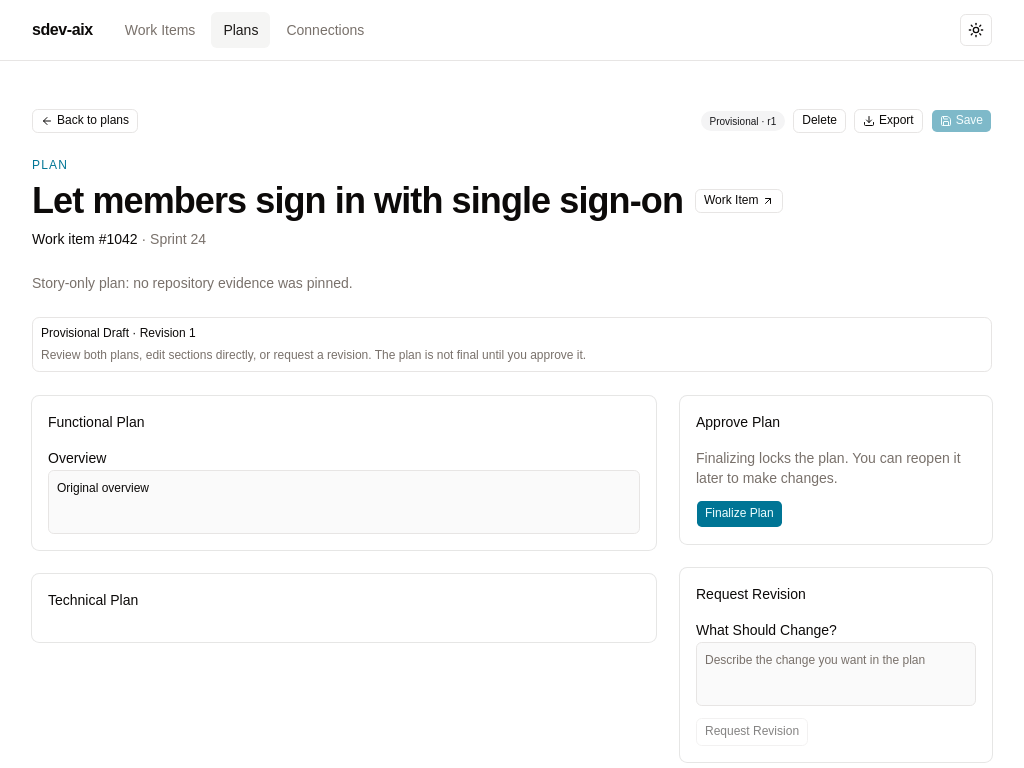
Test: plans › loads a plan directly and saves edits
This screenshot has width=1024, height=768.
Expected: the heading "Let members sign in with single sign-on" is shown, [32,181,683,221]
Replace the text in the text box labelled "Overview" with "Updated overview" at (344, 502), box [48,470,640,534]
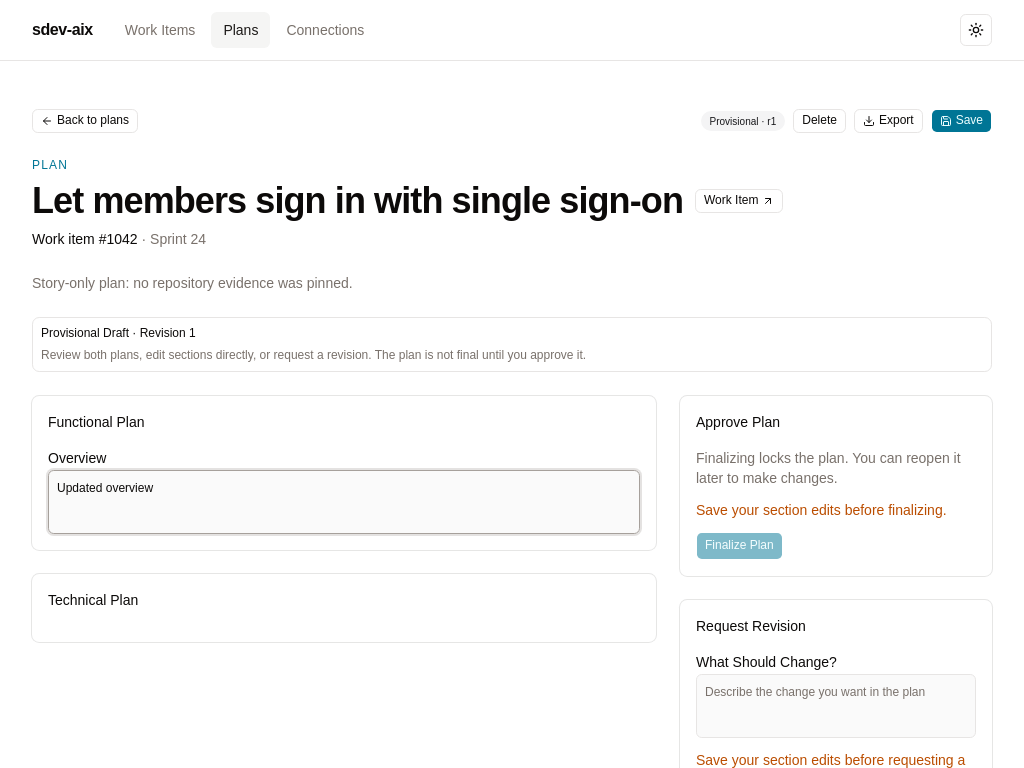
Click the button "Save" at (961, 121), box [931,109,992,133]
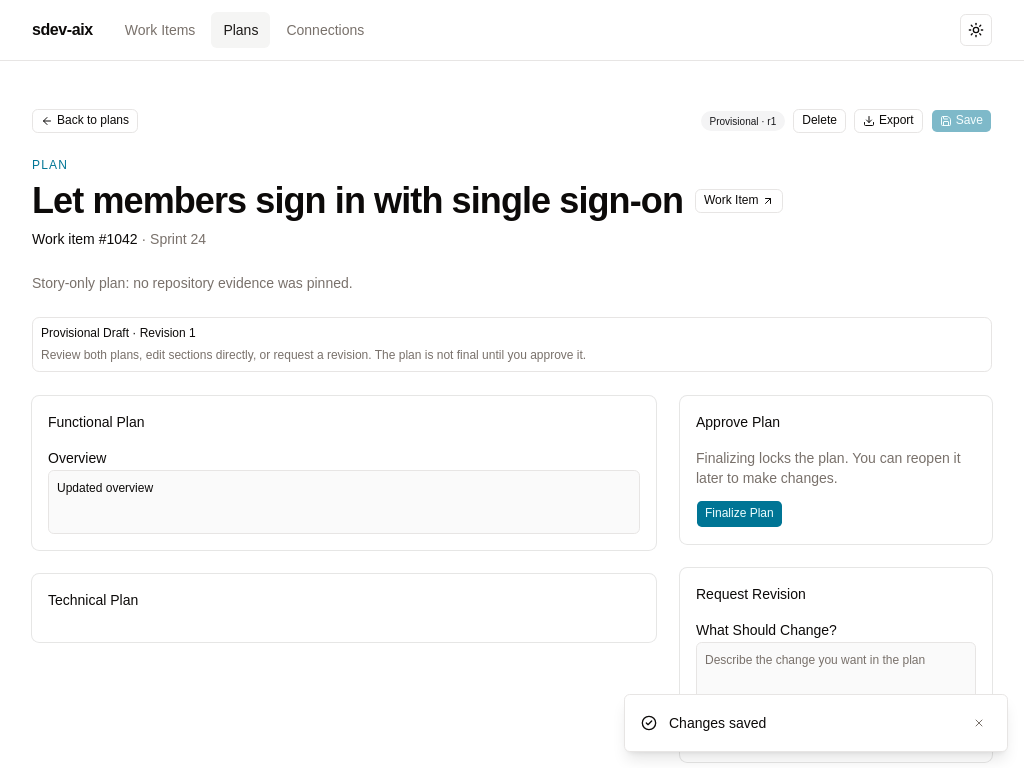
Expected: the heading "Changes saved" is shown, [669,715,766,731]
